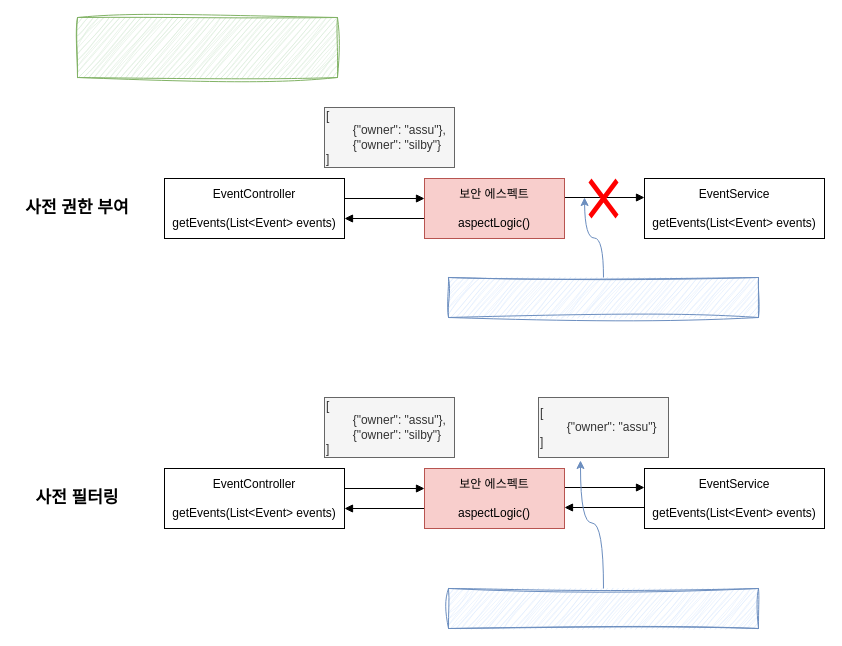
Some shapes in this 842 by 646 pixel diagram are drawn without their labels. Here are the shapes that lost their labels. From the top down, the box of each, then its label:
(76, 16, 338, 78): http://localhost:8080/events 본인이 작성한 이벤트에 대해서만 정보를 얻을 수 있음
(448, 276, 758, 318): 사전 권한 부여에서는 주어진 권한 부여 규칙을 준수하지 않으면 아예 메서드를 호출하지 않음
(448, 588, 758, 628): 사전 필터링은 메서드가 호출되지만 규칙을 준수하는 값만 메서드의 매개 변수로 전달됨
